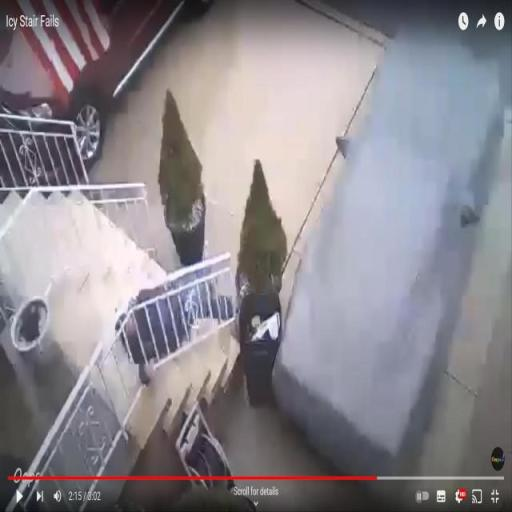Fall: (115, 259, 239, 390)
